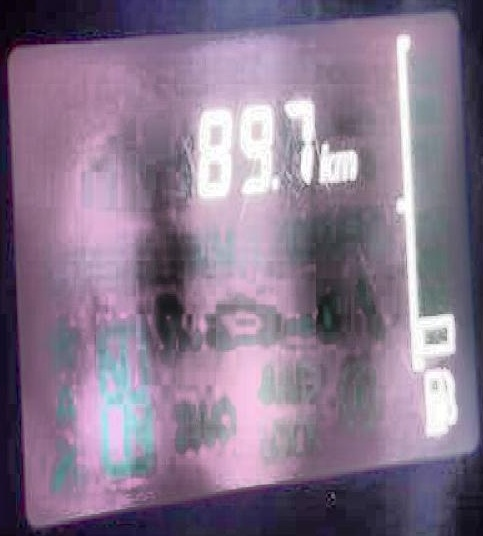-: (271, 174, 278, 189)
7: (281, 96, 315, 185)
8: (194, 103, 232, 201)
9: (236, 98, 273, 196)
X: (332, 147, 357, 182), (317, 138, 333, 183)
